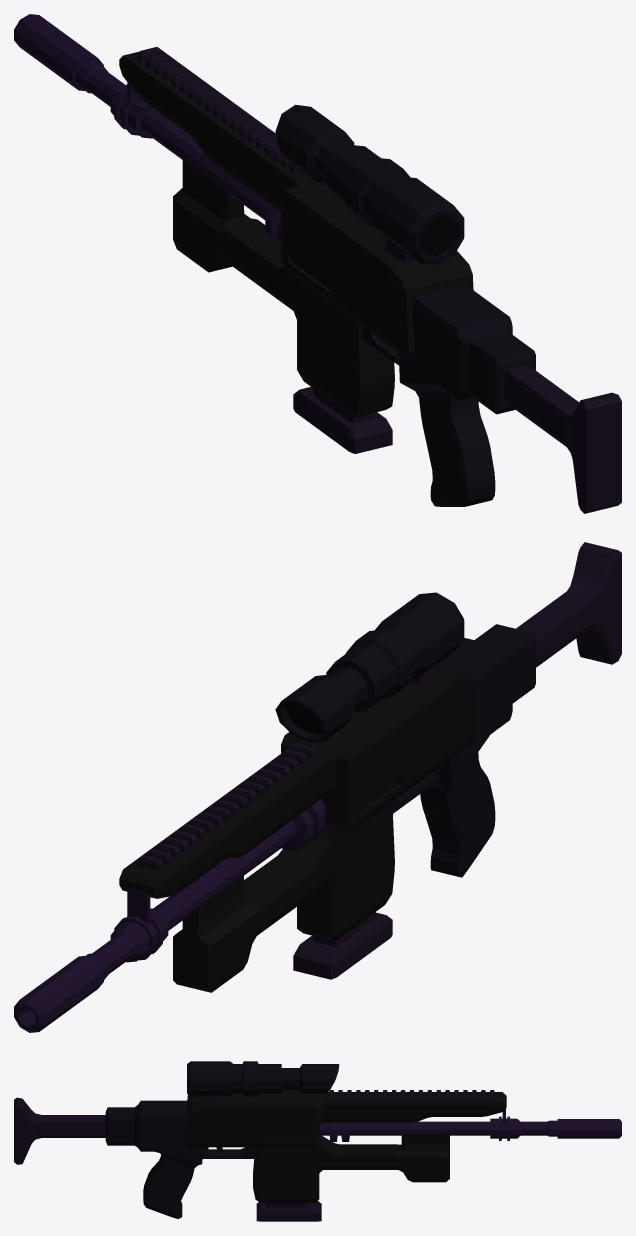
File: rifle.glb
3 views of the same model, one above another, from view 1: azimuth 30°, elevation 25°; view 2: azimuth 150°, elevation 25°; view 3: azimuth 270°, elevation 25° (orthographic). The views are drawn at different scales.
Parts seen in each view (by area): view 1: Rifle; view 2: Rifle; view 3: Rifle.
Boxes of the visible parts, x1,y1,x2,y2 form: Rifle: (14, 14, 621, 513); Rifle: (14, 542, 621, 1032); Rifle: (14, 1061, 621, 1221).
Size of the model in its own units: 63.03 by 247 by 885.
